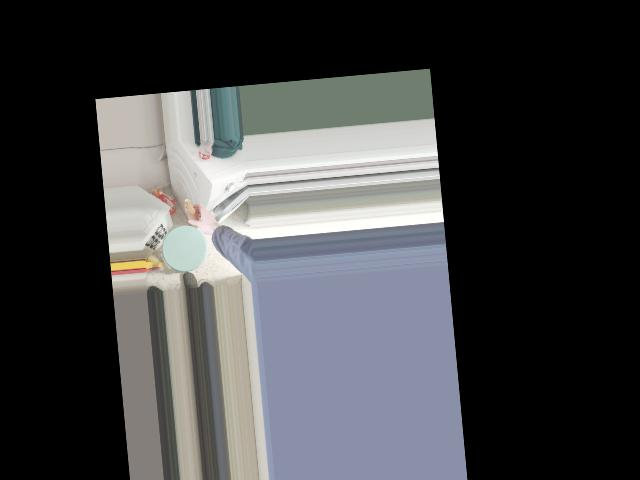sweet_potato: (184, 197, 207, 235)
